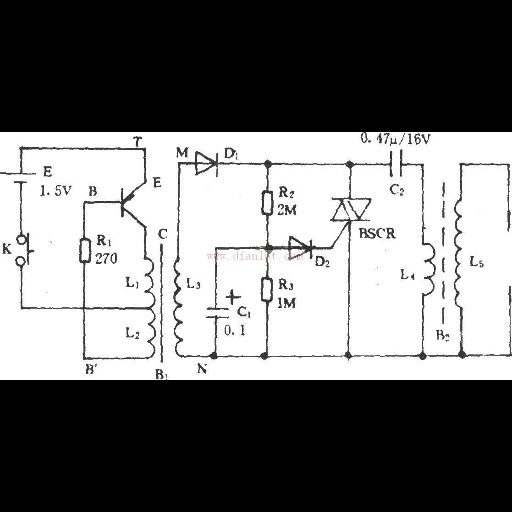capacitor: (385, 147, 408, 180)
firstpolarcapacitor: (204, 286, 237, 321)
firstresistance: (255, 188, 275, 218), (256, 273, 274, 304), (74, 237, 93, 266)
inductor: (450, 193, 466, 312), (412, 237, 437, 299), (169, 255, 184, 357), (139, 254, 156, 308), (139, 308, 157, 359)
npn: (110, 174, 149, 231)
seconddiode: (285, 230, 314, 264), (192, 147, 221, 180)
